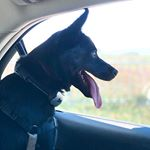puppy: (15, 5, 120, 118)
